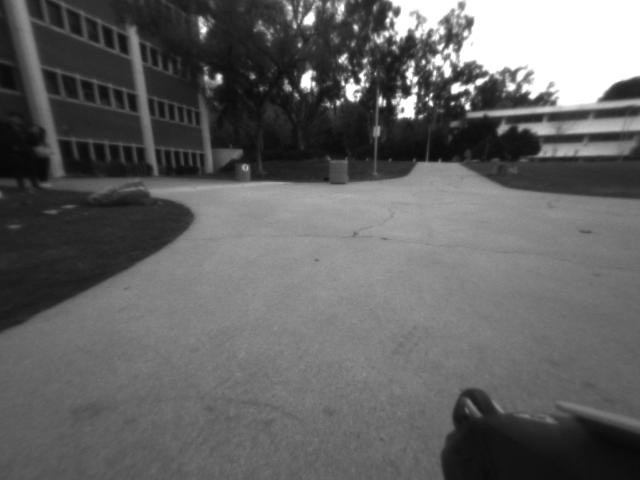trashcan: (326, 156, 351, 192), (233, 156, 256, 189)
